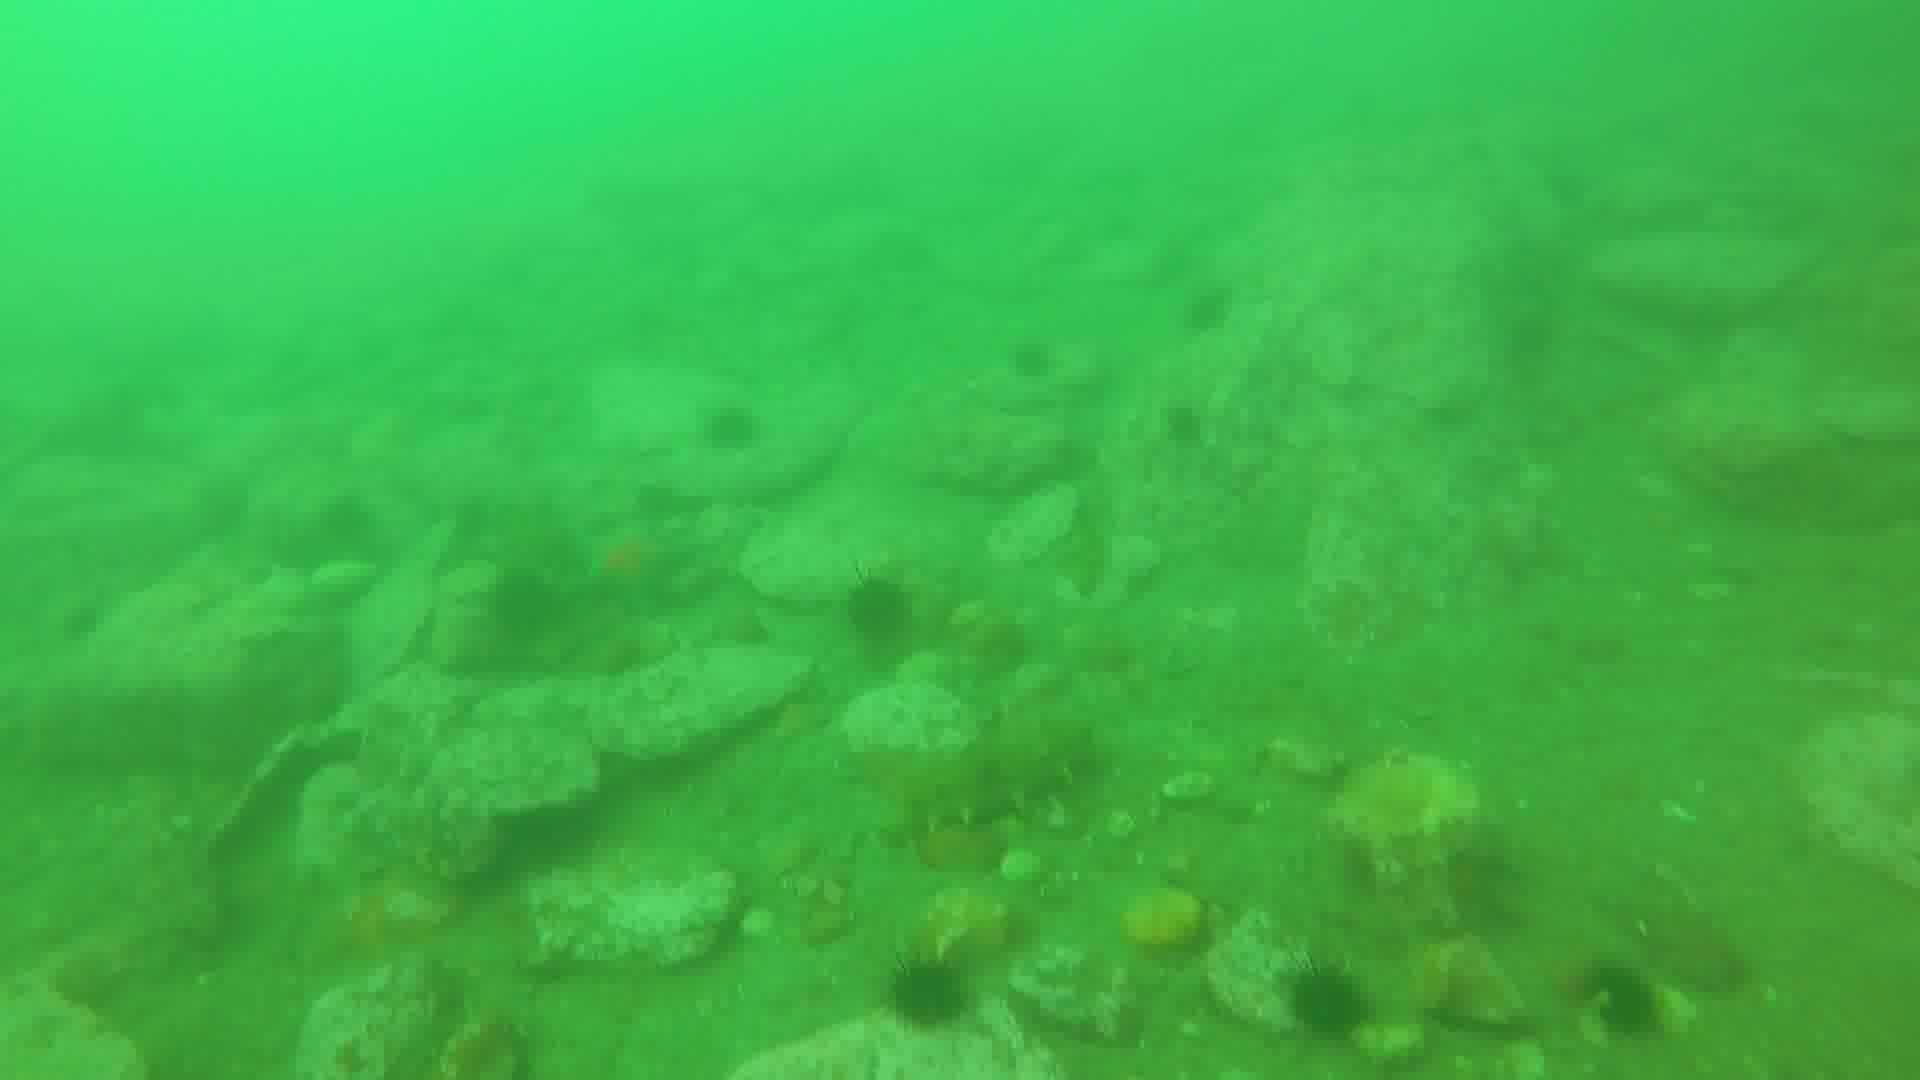echinus: (1572, 959, 1667, 1046), (881, 951, 976, 1036), (1282, 961, 1374, 1044), (481, 566, 568, 647), (837, 568, 919, 650), (696, 400, 767, 458), (1178, 280, 1240, 339), (1156, 397, 1212, 454), (1004, 334, 1060, 385)
holothurian: (891, 713, 1105, 840)
starfish: (572, 513, 695, 617)
